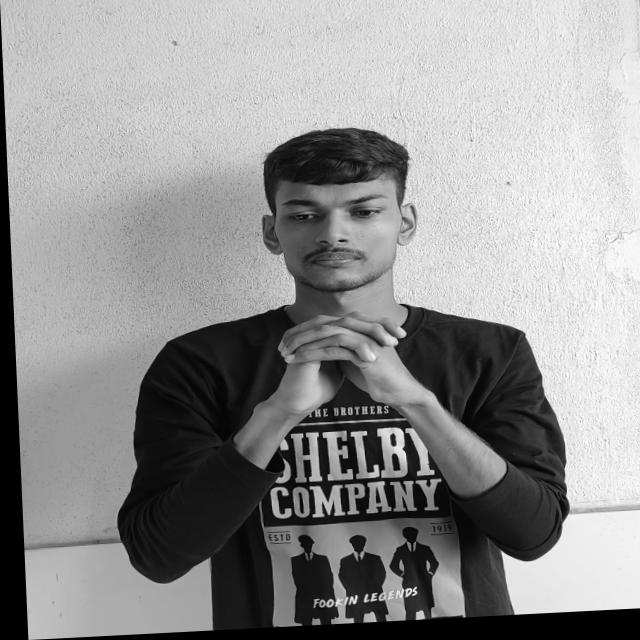Sorry: (268, 314, 413, 410)
